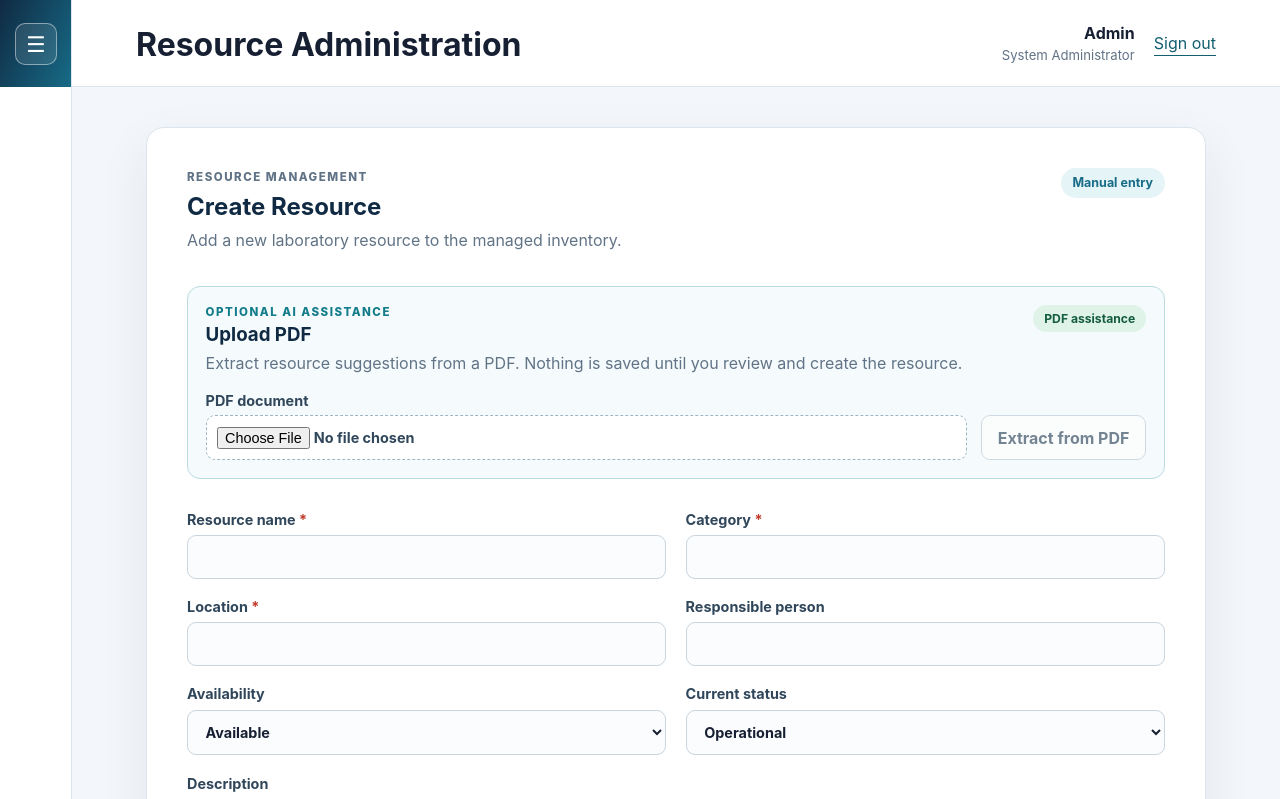
App authorization UI › lets an administrator open resource availability from navigation
Click the button named "open navigation": (36, 44) x1=15 y1=23 x2=57 y2=65
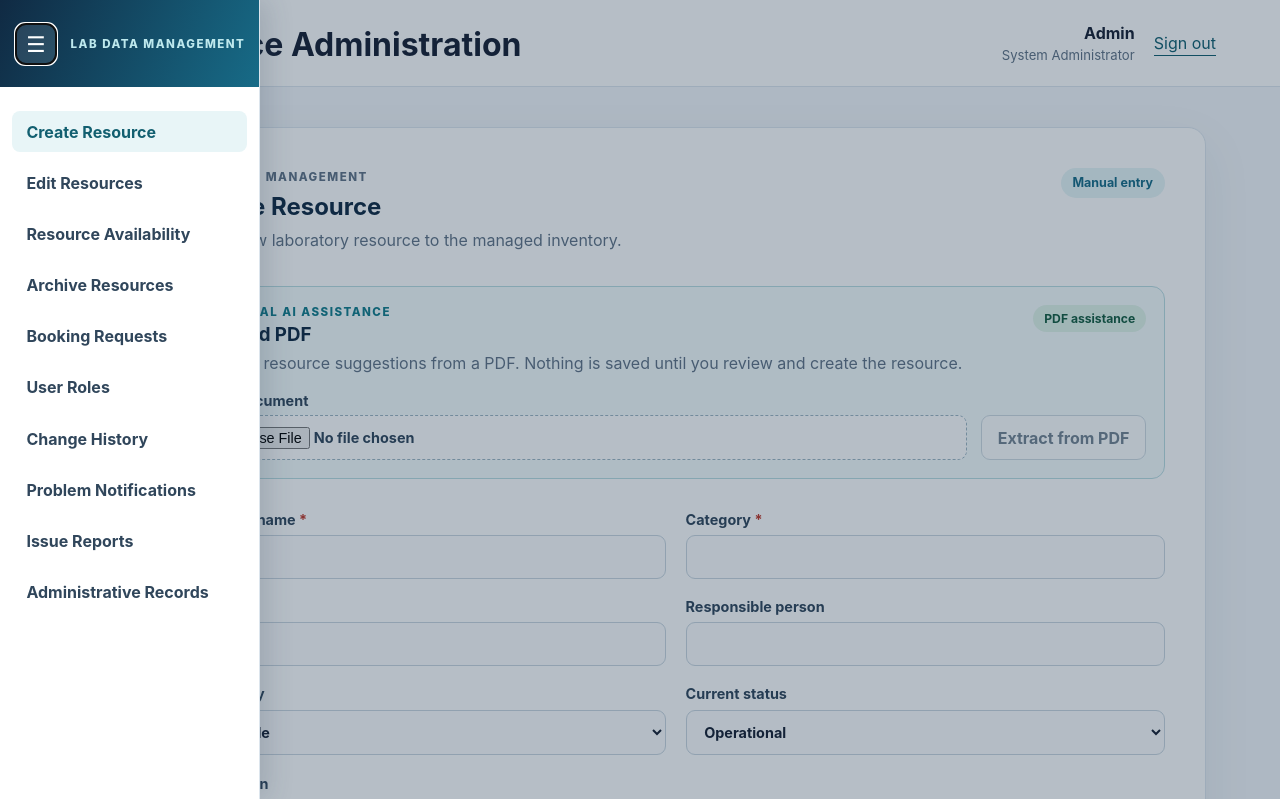
Click the button "Resource Availability": (130, 234) x1=12 y1=214 x2=247 y2=254
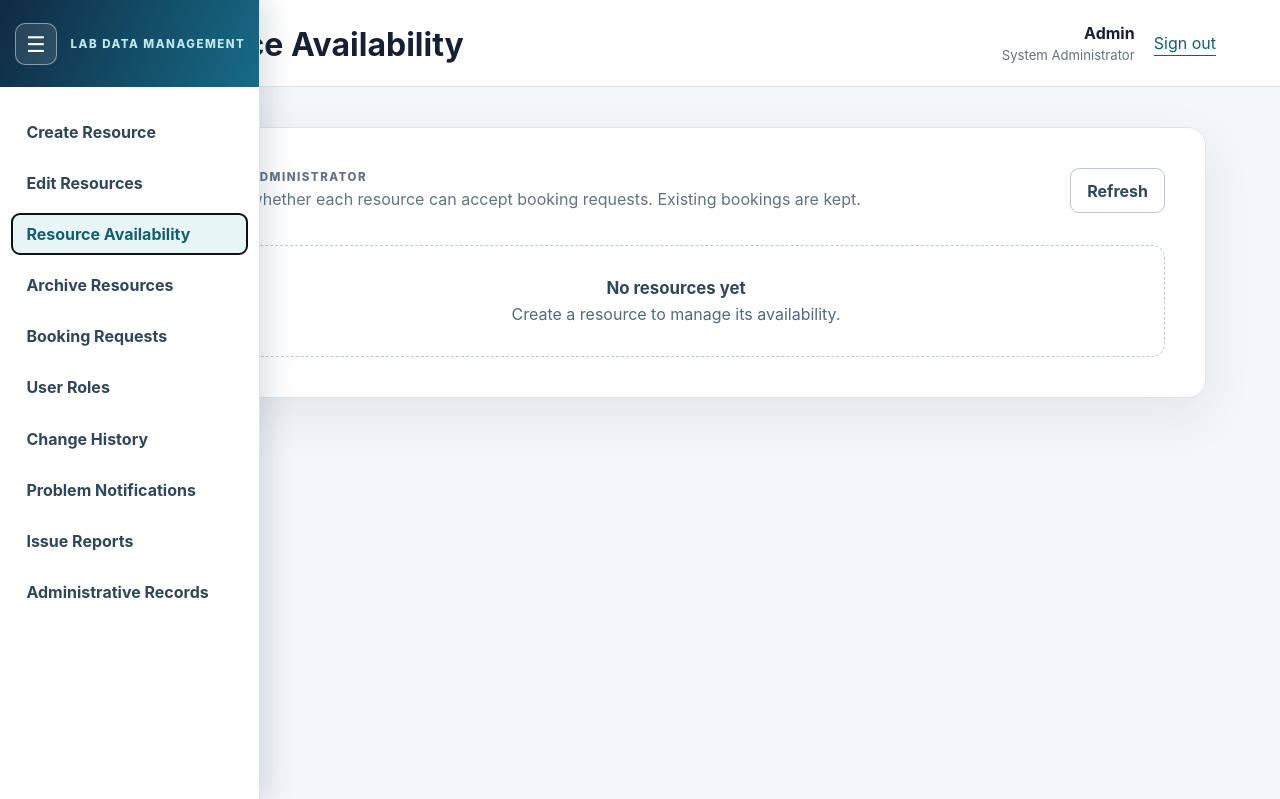
Expected: the heading "Resource Availability" is shown, x1=136 y1=25 x2=464 y2=64
Expected: the text "No resources yet" is shown, x1=606 y1=278 x2=746 y2=298
